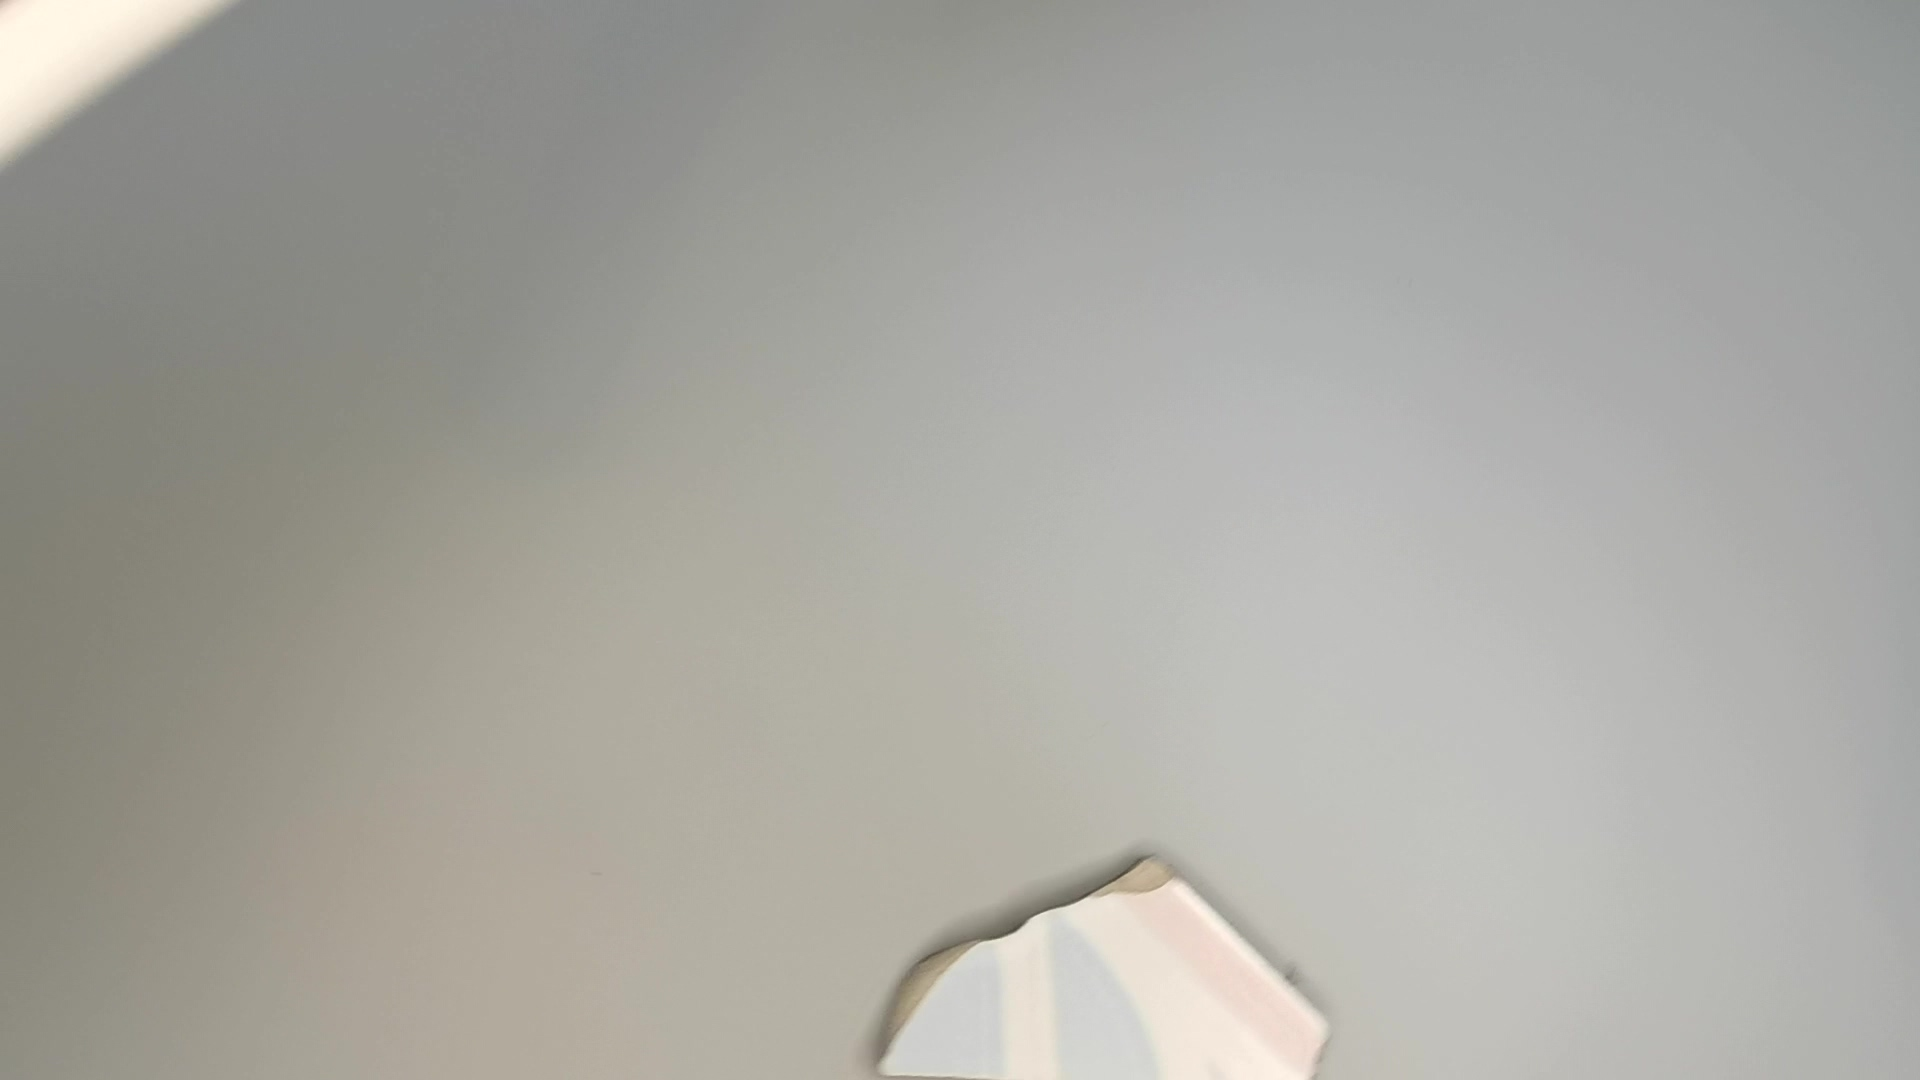ceramic: (855, 845, 1342, 1080)
